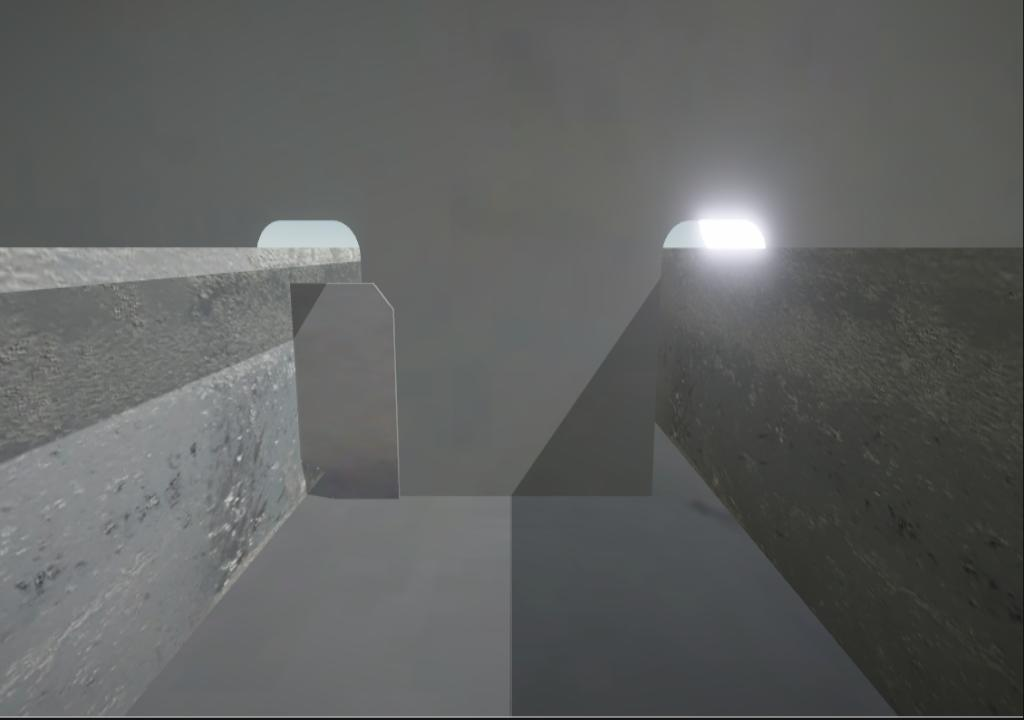longi_yong_jeop_jang: (397, 485, 652, 511)
plate_CP04: (289, 282, 399, 498)
